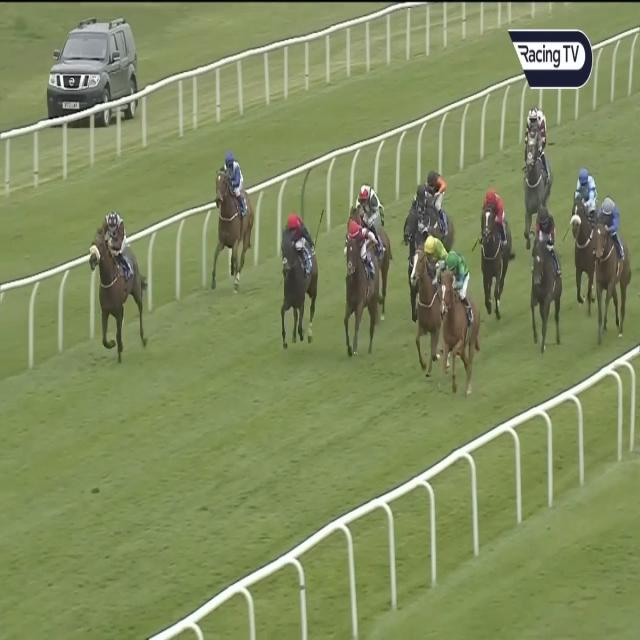horses-racing: (90, 208, 146, 362), (280, 210, 321, 354), (340, 209, 380, 352), (216, 148, 256, 289), (411, 235, 450, 362), (441, 247, 476, 381), (594, 195, 624, 336), (534, 198, 559, 347), (479, 190, 510, 306), (522, 99, 550, 224), (574, 160, 597, 309), (353, 182, 394, 258), (400, 183, 434, 263), (424, 162, 442, 220)
